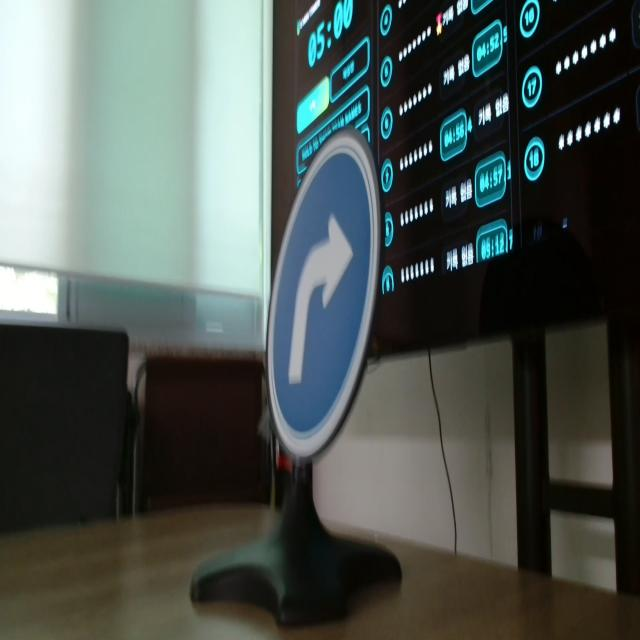right_dierection: (261, 131, 377, 462)
